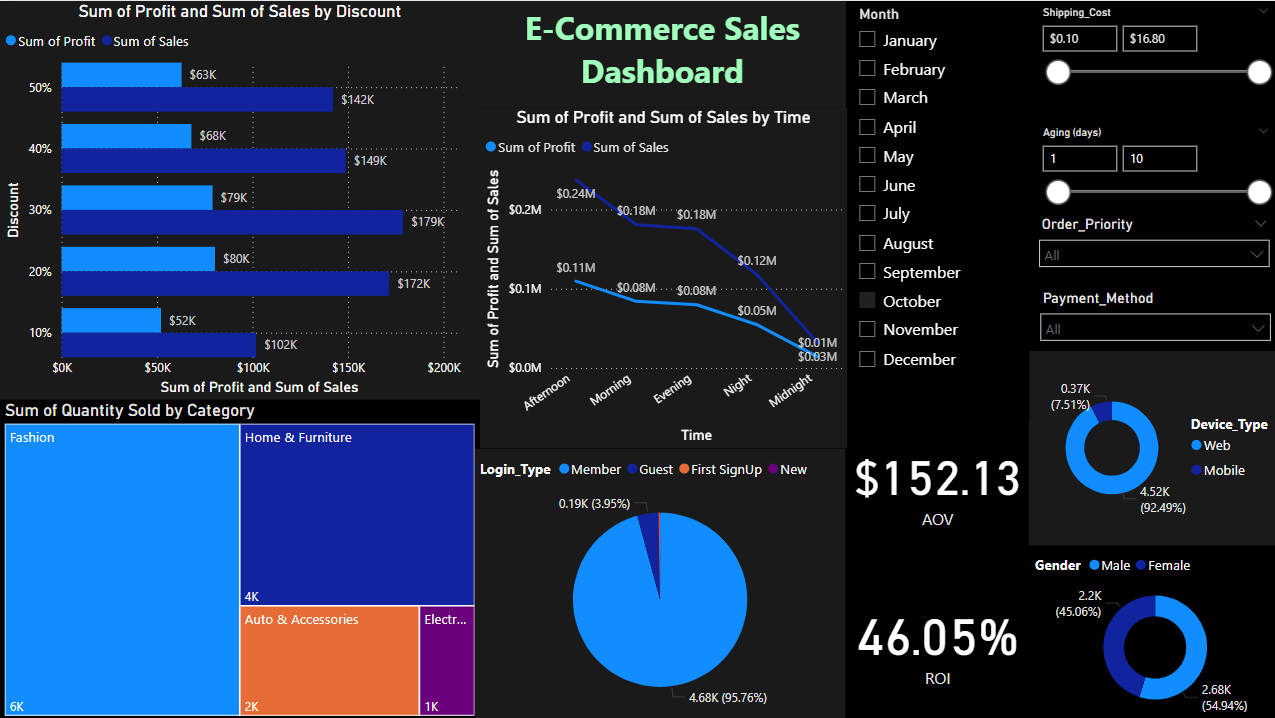

This screenshot's page, from the dashboard's own definition file:
{"tool":"powerbi","page":{"name":"Page 1","canvas":[1280,720],"ordinal":0},"visuals":[{"type":"card","fields":{"Values":["E-commerce Dataset.AOV"]},"box":[845.7,398.1,183.4,167.7],"z":0},{"type":"card","fields":{"Values":["E-commerce Dataset.ROI"]},"box":[845.7,561,183.4,159.3],"z":1000},{"type":"clusteredBarChart","title":"Sum of Profit and Sum of Sales by Discount","fields":{"Category":["E-commerce Dataset.Discount"],"Y":["Sum(E-commerce.Profit)","Sum(E-commerce.Sales)"]},"box":[0,0,479.7,399],"z":2000},{"type":"treemap","title":"Sum of Quantity Sold by Category","fields":{"Group":["E-commerce Dataset.Product_Category","E-commerce Dataset.Product"],"Values":["Sum(E-commerce.Quantity)"]},"box":[0,399,479.7,321],"z":3000},{"type":"slicer","fields":{"Values":["E-commerce Dataset.Order_Priority"]},"box":[1029.1,209.9,250.9,73.6],"z":4000},{"type":"donutChart","title":"Gender","fields":{"Category":["E-commerce Dataset.Gender"],"Y":["CountNonNull(E-commerce.Order Num)"]},"box":[1029.6,544.2,250.7,176.1],"z":5000},{"type":"slicer","fields":{"Values":["E-commerce Dataset.Payment_method"]},"box":[1029.5,283.7,250.9,66.5],"z":6000},{"type":"donutChart","title":" Device_Type","fields":{"Category":["E-commerce Dataset.Device_Type"],"Y":["CountNonNull(E-commerce.Order Num)"]},"box":[1029.1,349.9,250.9,194.2],"z":7000},{"type":"slicer","fields":{"Values":["E-commerce Dataset.Aging"]},"box":[1029.5,119.7,250.9,90.4],"z":8000},{"type":"pieChart","title":"Customer_Login_type","fields":{"Category":["E-commerce Dataset.Customer_Login_type"],"Y":["CountNonNull(E-commerce.Order Num)"]},"box":[475.3,446.9,370.6,273.1],"z":9000},{"type":"slicer","fields":{"Values":["E-commerce Dataset.Shipping_Cost"]},"box":[1029.5,0,250.9,119.7],"z":10000},{"type":"slicer","fields":{"Values":["E-commerce.Order_Date.Variation.Date Hierarchy.Month"]},"box":[846.2,0,183.4,417],"z":11000},{"type":"lineChart","title":"Sum of Profit and Sum of Sales by Time","fields":{"Category":["E-commerce.TimeClassification"],"Y":["Sum(E-commerce.Profit)","Sum(E-commerce.Sales)"]},"box":[479.7,106.4,367.1,340.5],"z":12000},{"type":"textbox","box":[478.8,0,367.1,106.4],"z":13000}]}

Visuals, with their boxes in screenshot pixels (x1, y1, x2, y2), scaled from the page's 1280x720 canvas onto the 1275x718 screenshot:
card - E-commerce Dataset.AOV: box(842, 397, 1025, 564)
card - E-commerce Dataset.ROI: box(842, 559, 1025, 717)
"Sum of Profit and Sum of Sales by Discount" clusteredBarChart: box(0, 0, 478, 398)
"Sum of Quantity Sold by Category" treemap: box(0, 398, 478, 717)
slicer - E-commerce Dataset.Order_Priority: box(1025, 209, 1274, 283)
"Gender" donutChart: box(1026, 543, 1274, 717)
slicer - E-commerce Dataset.Payment_method: box(1025, 283, 1274, 349)
" Device_Type" donutChart: box(1025, 349, 1274, 543)
slicer - E-commerce Dataset.Aging: box(1025, 119, 1274, 210)
"Customer_Login_type" pieChart: box(473, 446, 843, 717)
slicer - E-commerce Dataset.Shipping_Cost: box(1025, 0, 1274, 119)
slicer - E-commerce.Order_Date.Variation.Date Hierarchy.Month: box(843, 0, 1026, 416)
"Sum of Profit and Sum of Sales by Time" lineChart: box(478, 106, 843, 446)
textbox: box(477, 0, 843, 106)
